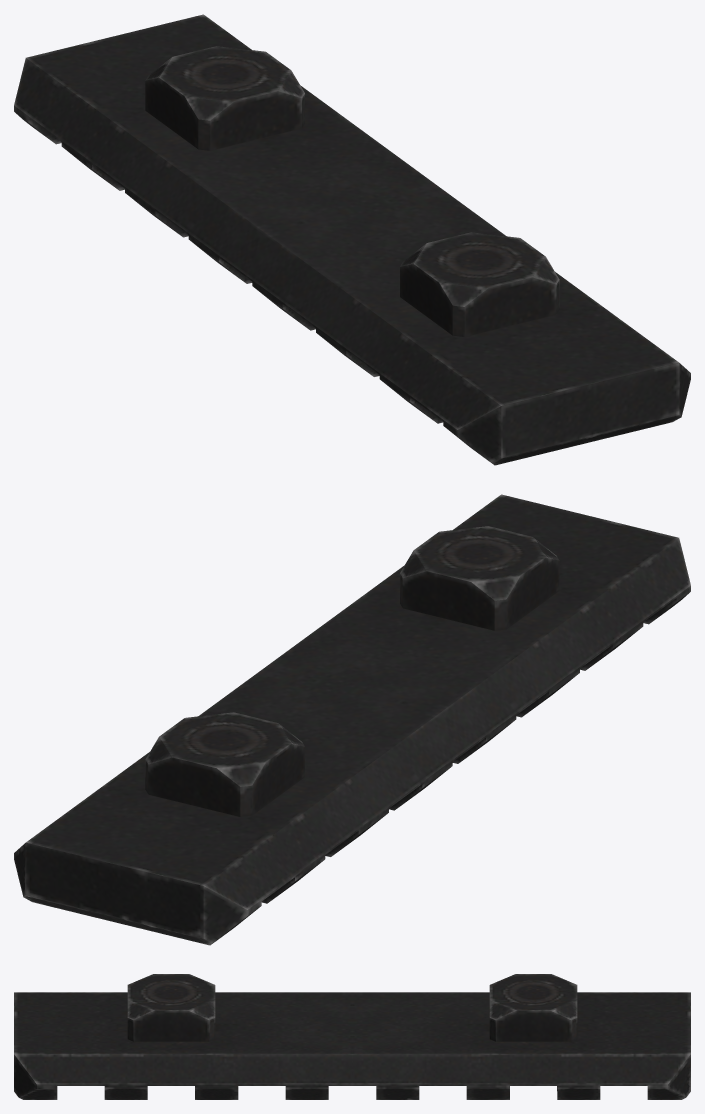
3 renders of one model, top to bottom at view 1: azimuth 30°, elevation 25°; view 2: azimuth 150°, elevation 25°; view 3: azimuth 270°, elevation 25°, orthographic. The views are drawn at different scales.
Visible parts, largest first — view 1: TW_5d133067d7ad1a33013f95b4_PZ_Import; view 2: TW_5d133067d7ad1a33013f95b4_PZ_Import; view 3: TW_5d133067d7ad1a33013f95b4_PZ_Import.
Boxes of the visible parts, x1,y1,x2,y2 form: TW_5d133067d7ad1a33013f95b4_PZ_Import: [14, 14, 690, 465]; TW_5d133067d7ad1a33013f95b4_PZ_Import: [14, 494, 690, 945]; TW_5d133067d7ad1a33013f95b4_PZ_Import: [14, 974, 690, 1099].
Size of the model in its own units: 0.0123 by 0.0433 by 0.00539.
Materials: 1 (1 with a texture image).
